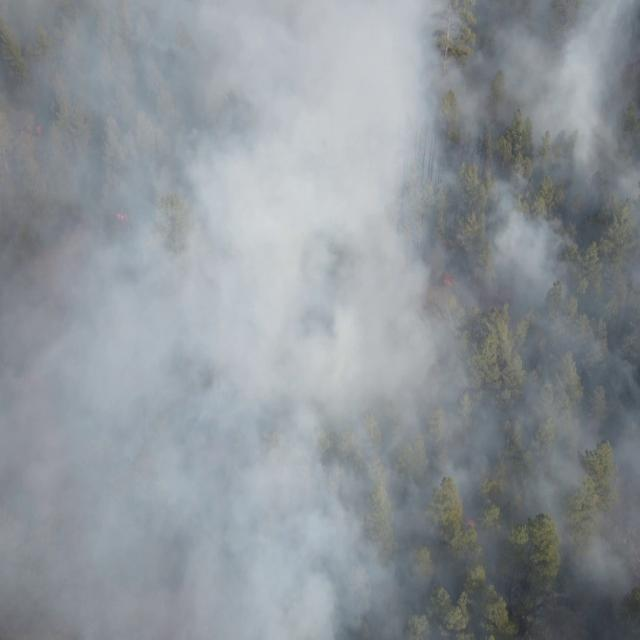fire: (442, 273, 461, 291), (114, 210, 130, 228), (464, 515, 478, 531), (32, 121, 44, 138)
smoke: (0, 0, 640, 640)
